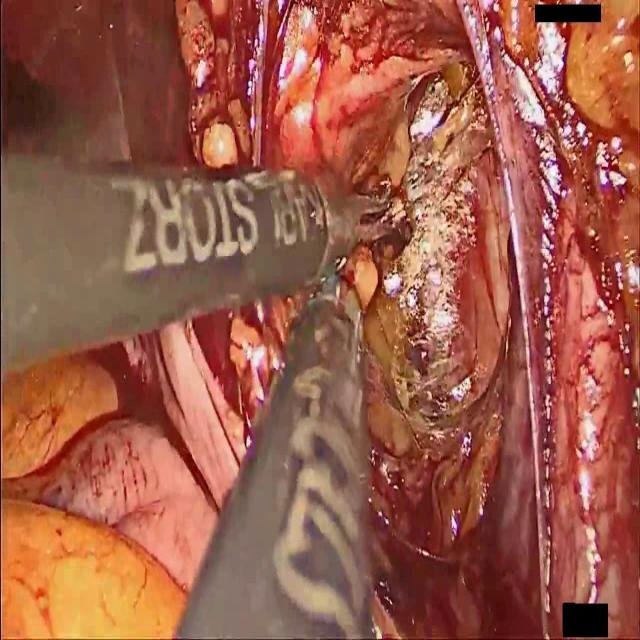surgical-area: (0, 285, 322, 639)
surgical-tool: (0, 150, 412, 639)
